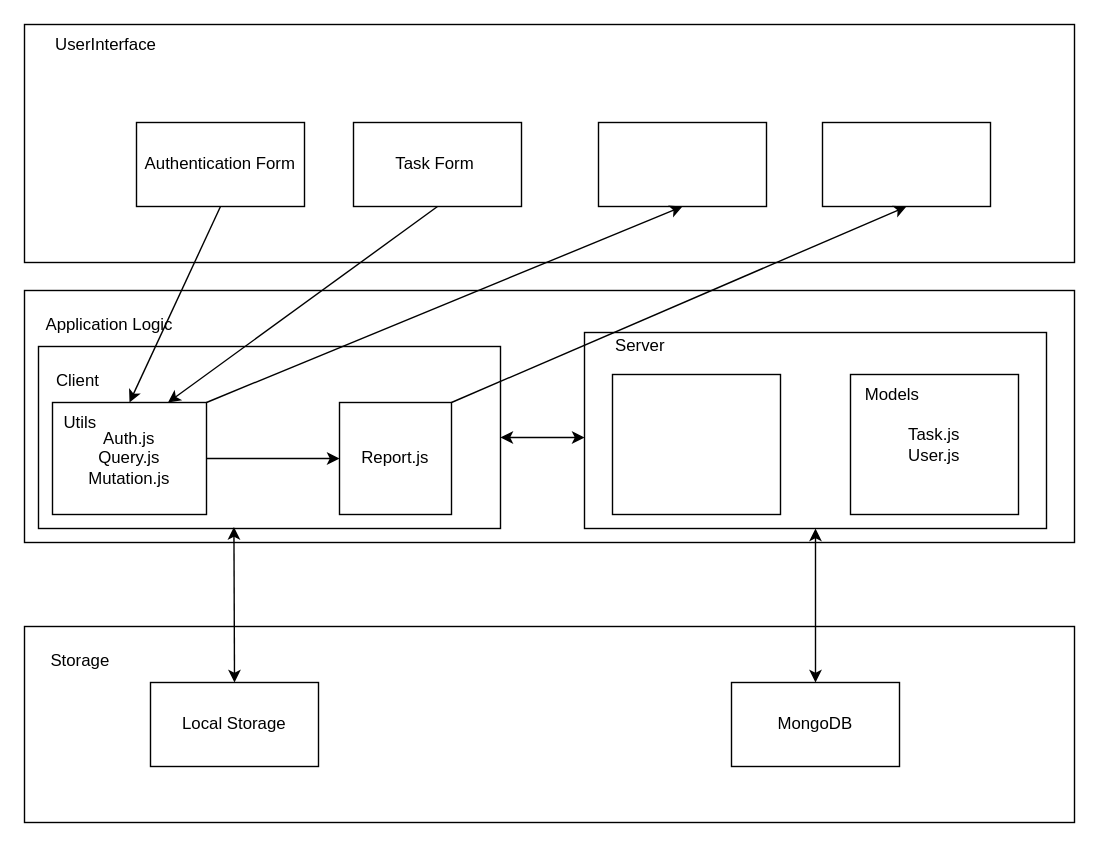
Some shapes in this 1099 by 847 pixel diagram are drawn without their labels. Here are the shapes that lost their labels. From the top down, the centre of each, then its label:
At (681,163): "TaskCards".
At (905,163): "ReportCharts".
At (695,443): "auth.directive.js auth.js (middleware)".
